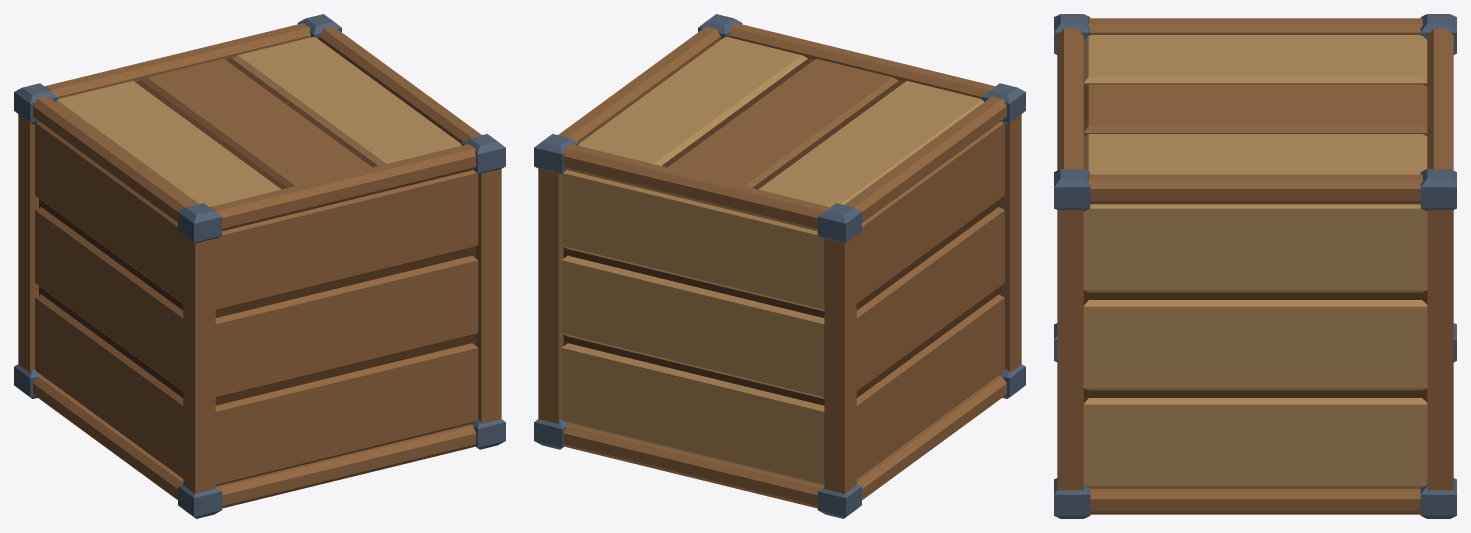
File: Crate_02.glb
The picture shows the model from 3 angles, left to right: view 1: azimuth 30°, elevation 25°; view 2: azimuth 150°, elevation 25°; view 3: azimuth 270°, elevation 25°; orthographic projection. The views are drawn at different scales.
Parts seen in each view (by area): view 1: Crate_02; view 2: Crate_02; view 3: Crate_02.
Boxes of the visible parts, box(x1,y1,x2,y2) form: Crate_02: box(14, 14, 505, 518); Crate_02: box(534, 14, 1025, 518); Crate_02: box(1054, 14, 1456, 518).
Bounding box in the file's own units: 2.44 × 2.27 × 2.44.
